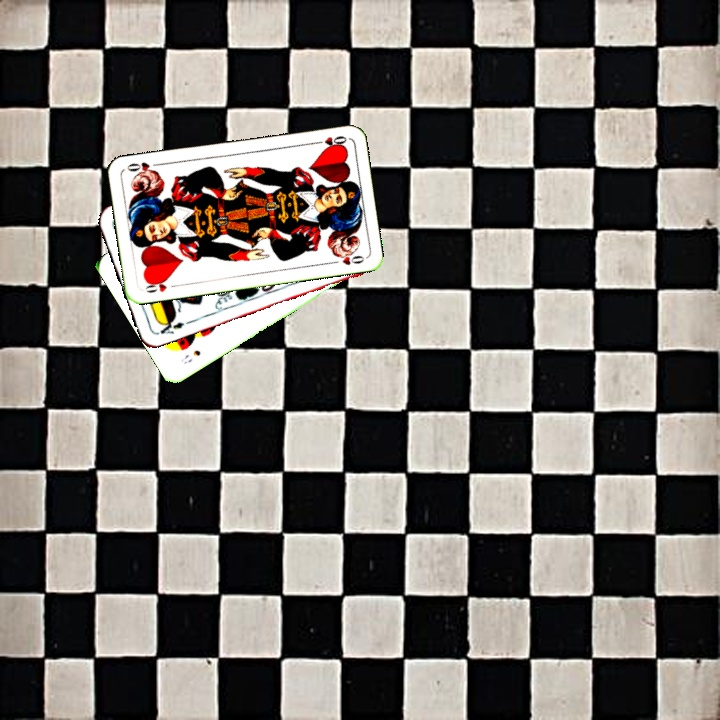EA: (153, 314, 187, 337)
HO: (141, 275, 180, 295), (309, 132, 349, 150)
S8: (177, 346, 203, 367)
